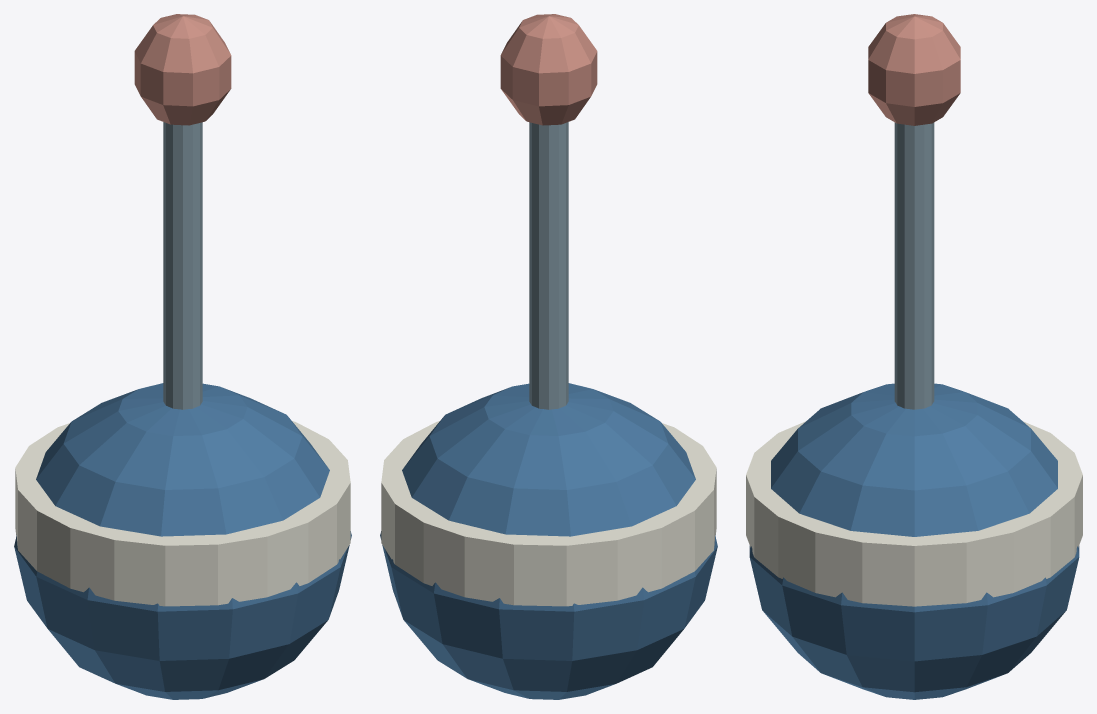
The model's file is floating_buoy.glb.
The picture shows the model from 3 angles, left to right: view 1: azimuth 30°, elevation 25°; view 2: azimuth 150°, elevation 25°; view 3: azimuth 270°, elevation 25°; orthographic projection.
Visible parts, largest first — view 1: float_body, white_band, mast, top_beacon; view 2: float_body, white_band, mast, top_beacon; view 3: float_body, white_band, mast, top_beacon.
Part boxes in pixels (bbox=[...]): float_body: bbox=[14, 383, 351, 699]; white_band: bbox=[15, 421, 350, 606]; mast: bbox=[163, 122, 202, 409]; top_beacon: bbox=[134, 14, 231, 125]; float_body: bbox=[380, 383, 717, 699]; white_band: bbox=[381, 421, 716, 606]; mast: bbox=[529, 122, 568, 409]; top_beacon: bbox=[500, 14, 597, 125]; float_body: bbox=[749, 383, 1079, 699]; white_band: bbox=[746, 421, 1082, 606]; mast: bbox=[894, 122, 934, 409]; top_beacon: bbox=[868, 14, 960, 125].
Bounding box in the file's own units: 0.43 × 0.935 × 0.428.
